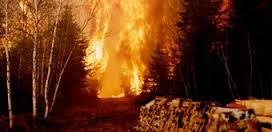fire: (81, 0, 181, 99)
